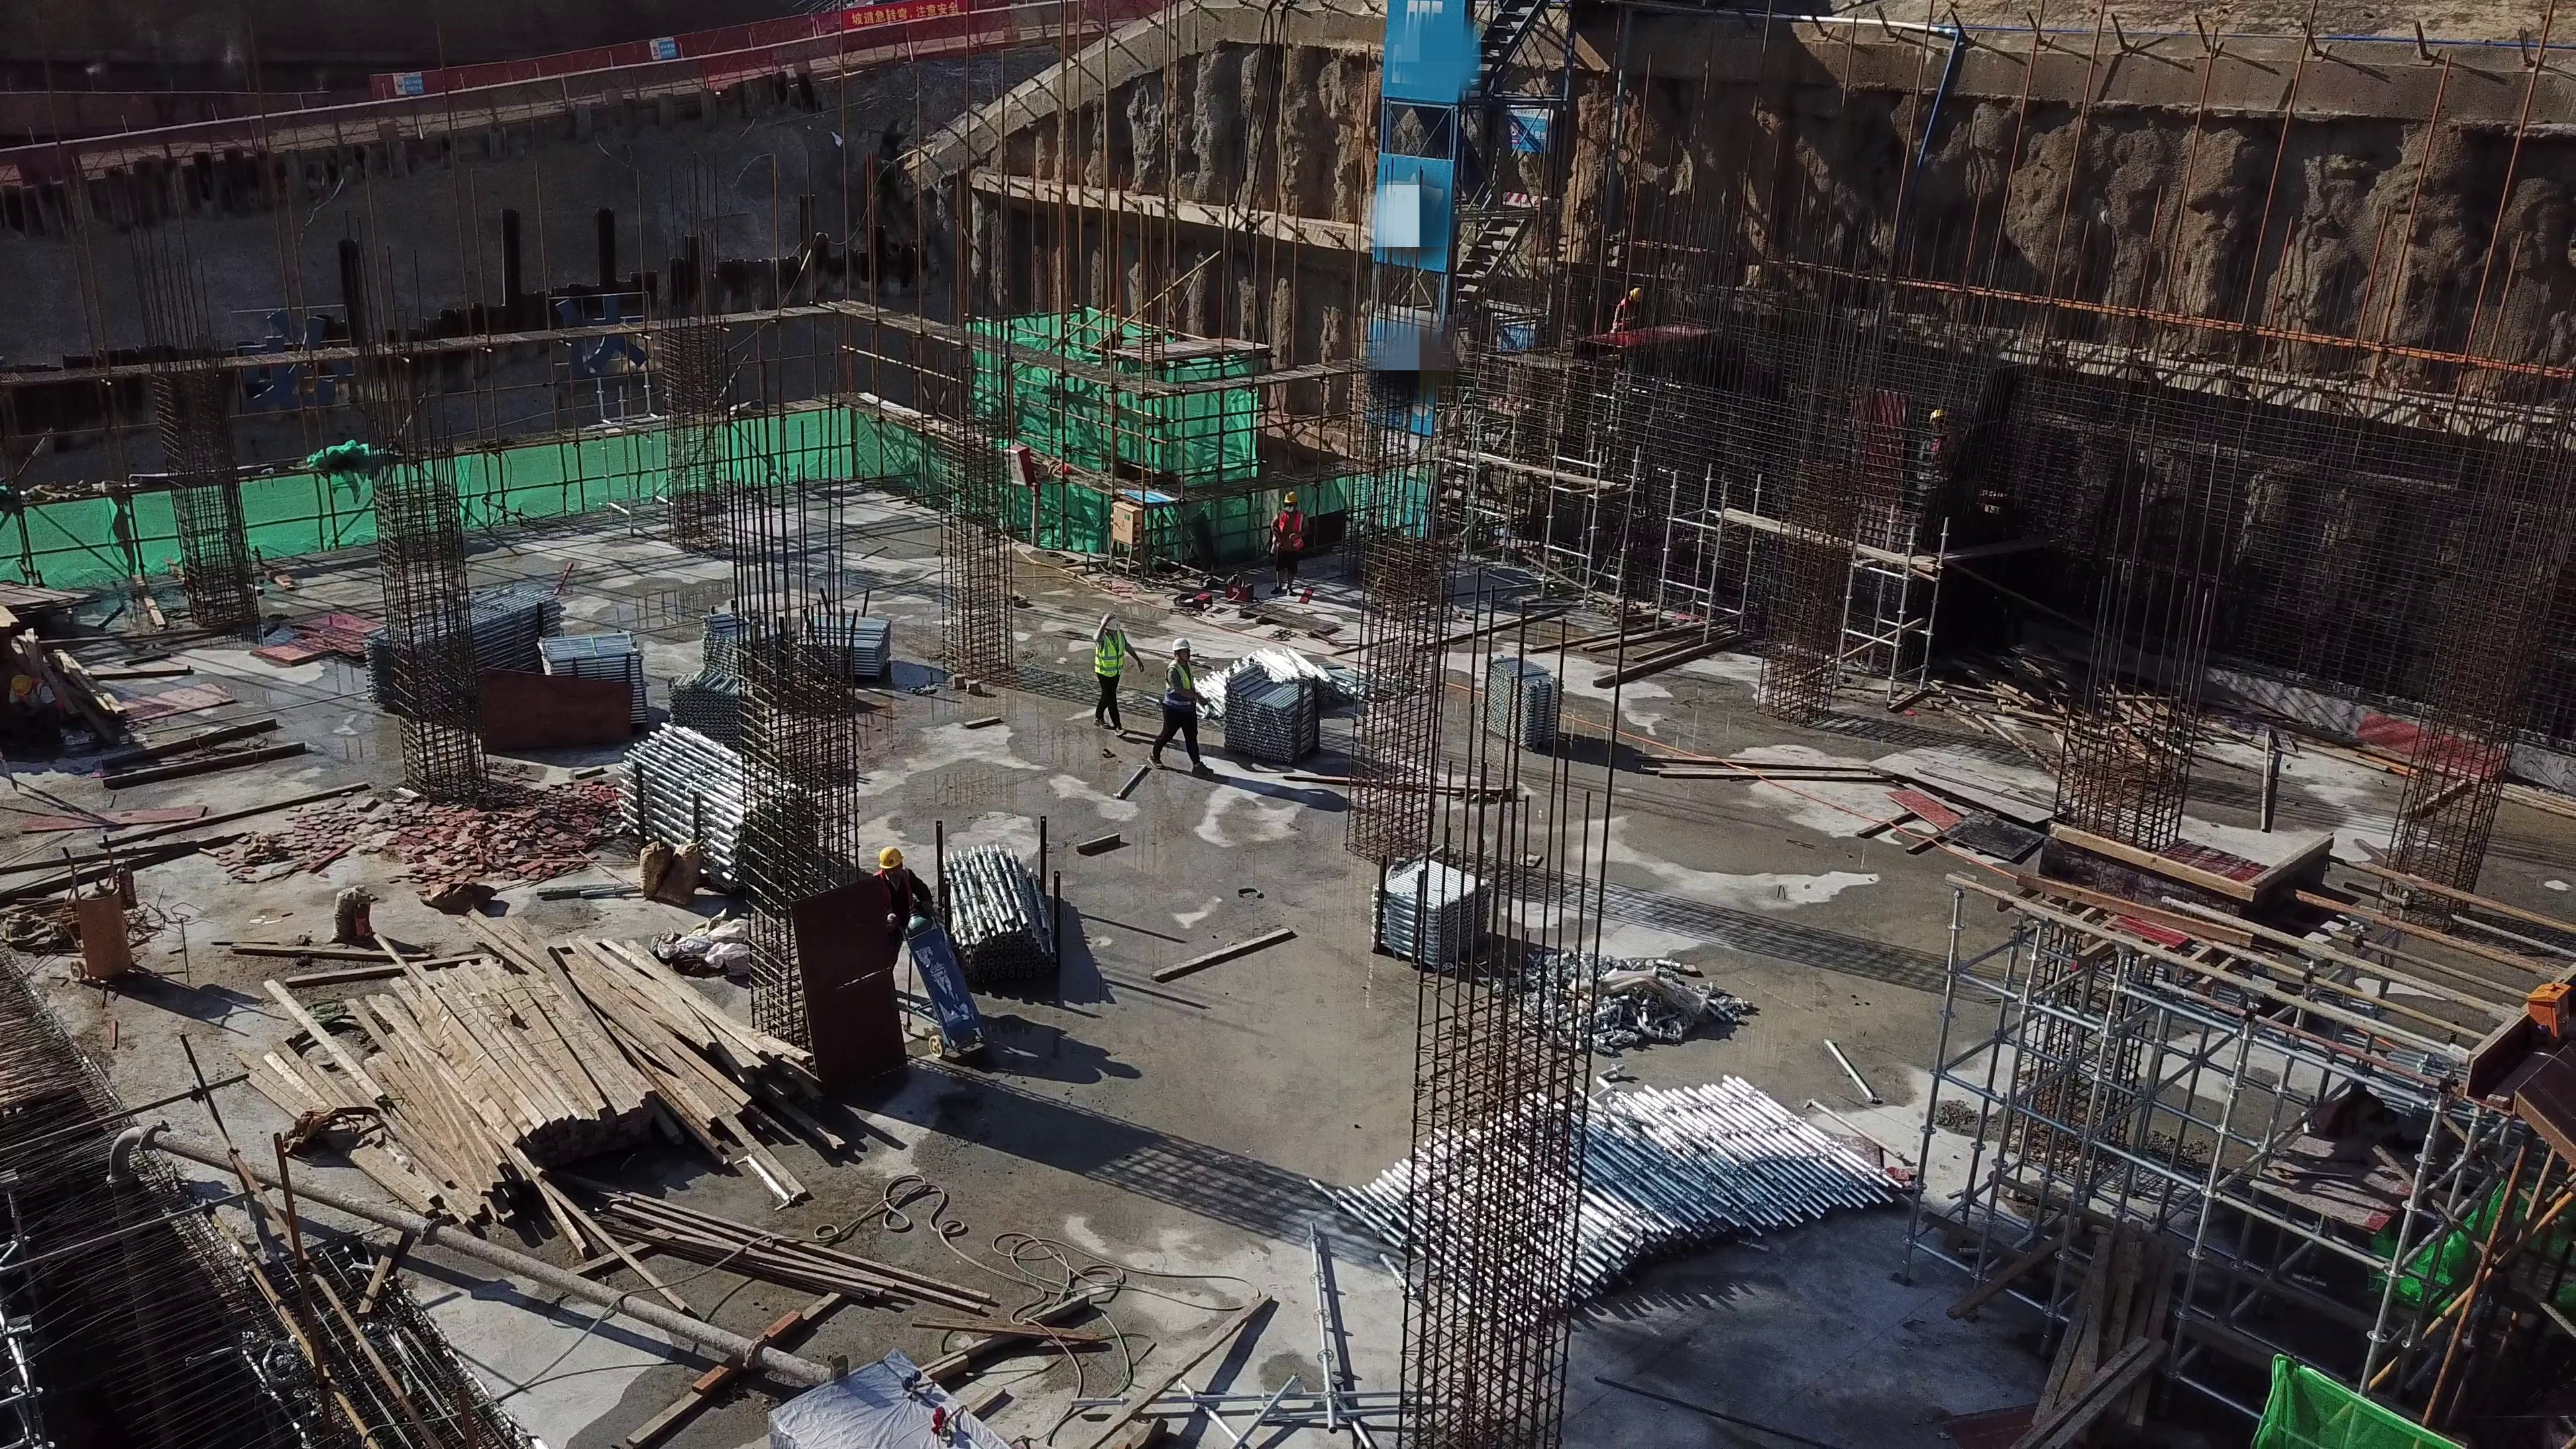ebox: (1103, 498, 1146, 578)
fence: (679, 3, 959, 85), (378, 71, 669, 120), (108, 107, 374, 160), (2, 138, 102, 186)
helmet: (874, 846, 904, 870), (9, 671, 27, 690), (1100, 612, 1120, 631), (1174, 635, 1189, 653), (1281, 490, 1295, 506), (1629, 286, 1642, 297), (1931, 409, 1942, 417)
person: (1149, 639, 1214, 776), (869, 850, 938, 973), (1094, 612, 1140, 735), (1267, 488, 1305, 593), (9, 673, 59, 742), (1931, 407, 1963, 474), (1612, 289, 1641, 333)
scaffold: (1329, 1073, 1863, 1304), (616, 720, 804, 898), (364, 588, 553, 709), (706, 602, 894, 683), (940, 839, 1042, 973), (531, 624, 645, 716), (1229, 662, 1333, 755), (1374, 855, 1467, 955), (1485, 649, 1545, 735)
slogan: (841, 1, 955, 27), (1503, 105, 1548, 153), (1124, 486, 1170, 502), (650, 31, 673, 56), (398, 78, 431, 93)
vest: (874, 871, 921, 930), (1163, 661, 1199, 708), (1273, 511, 1303, 551), (1096, 630, 1122, 678), (1617, 300, 1634, 329)
wood: (361, 950, 725, 1176), (6, 605, 107, 736)
